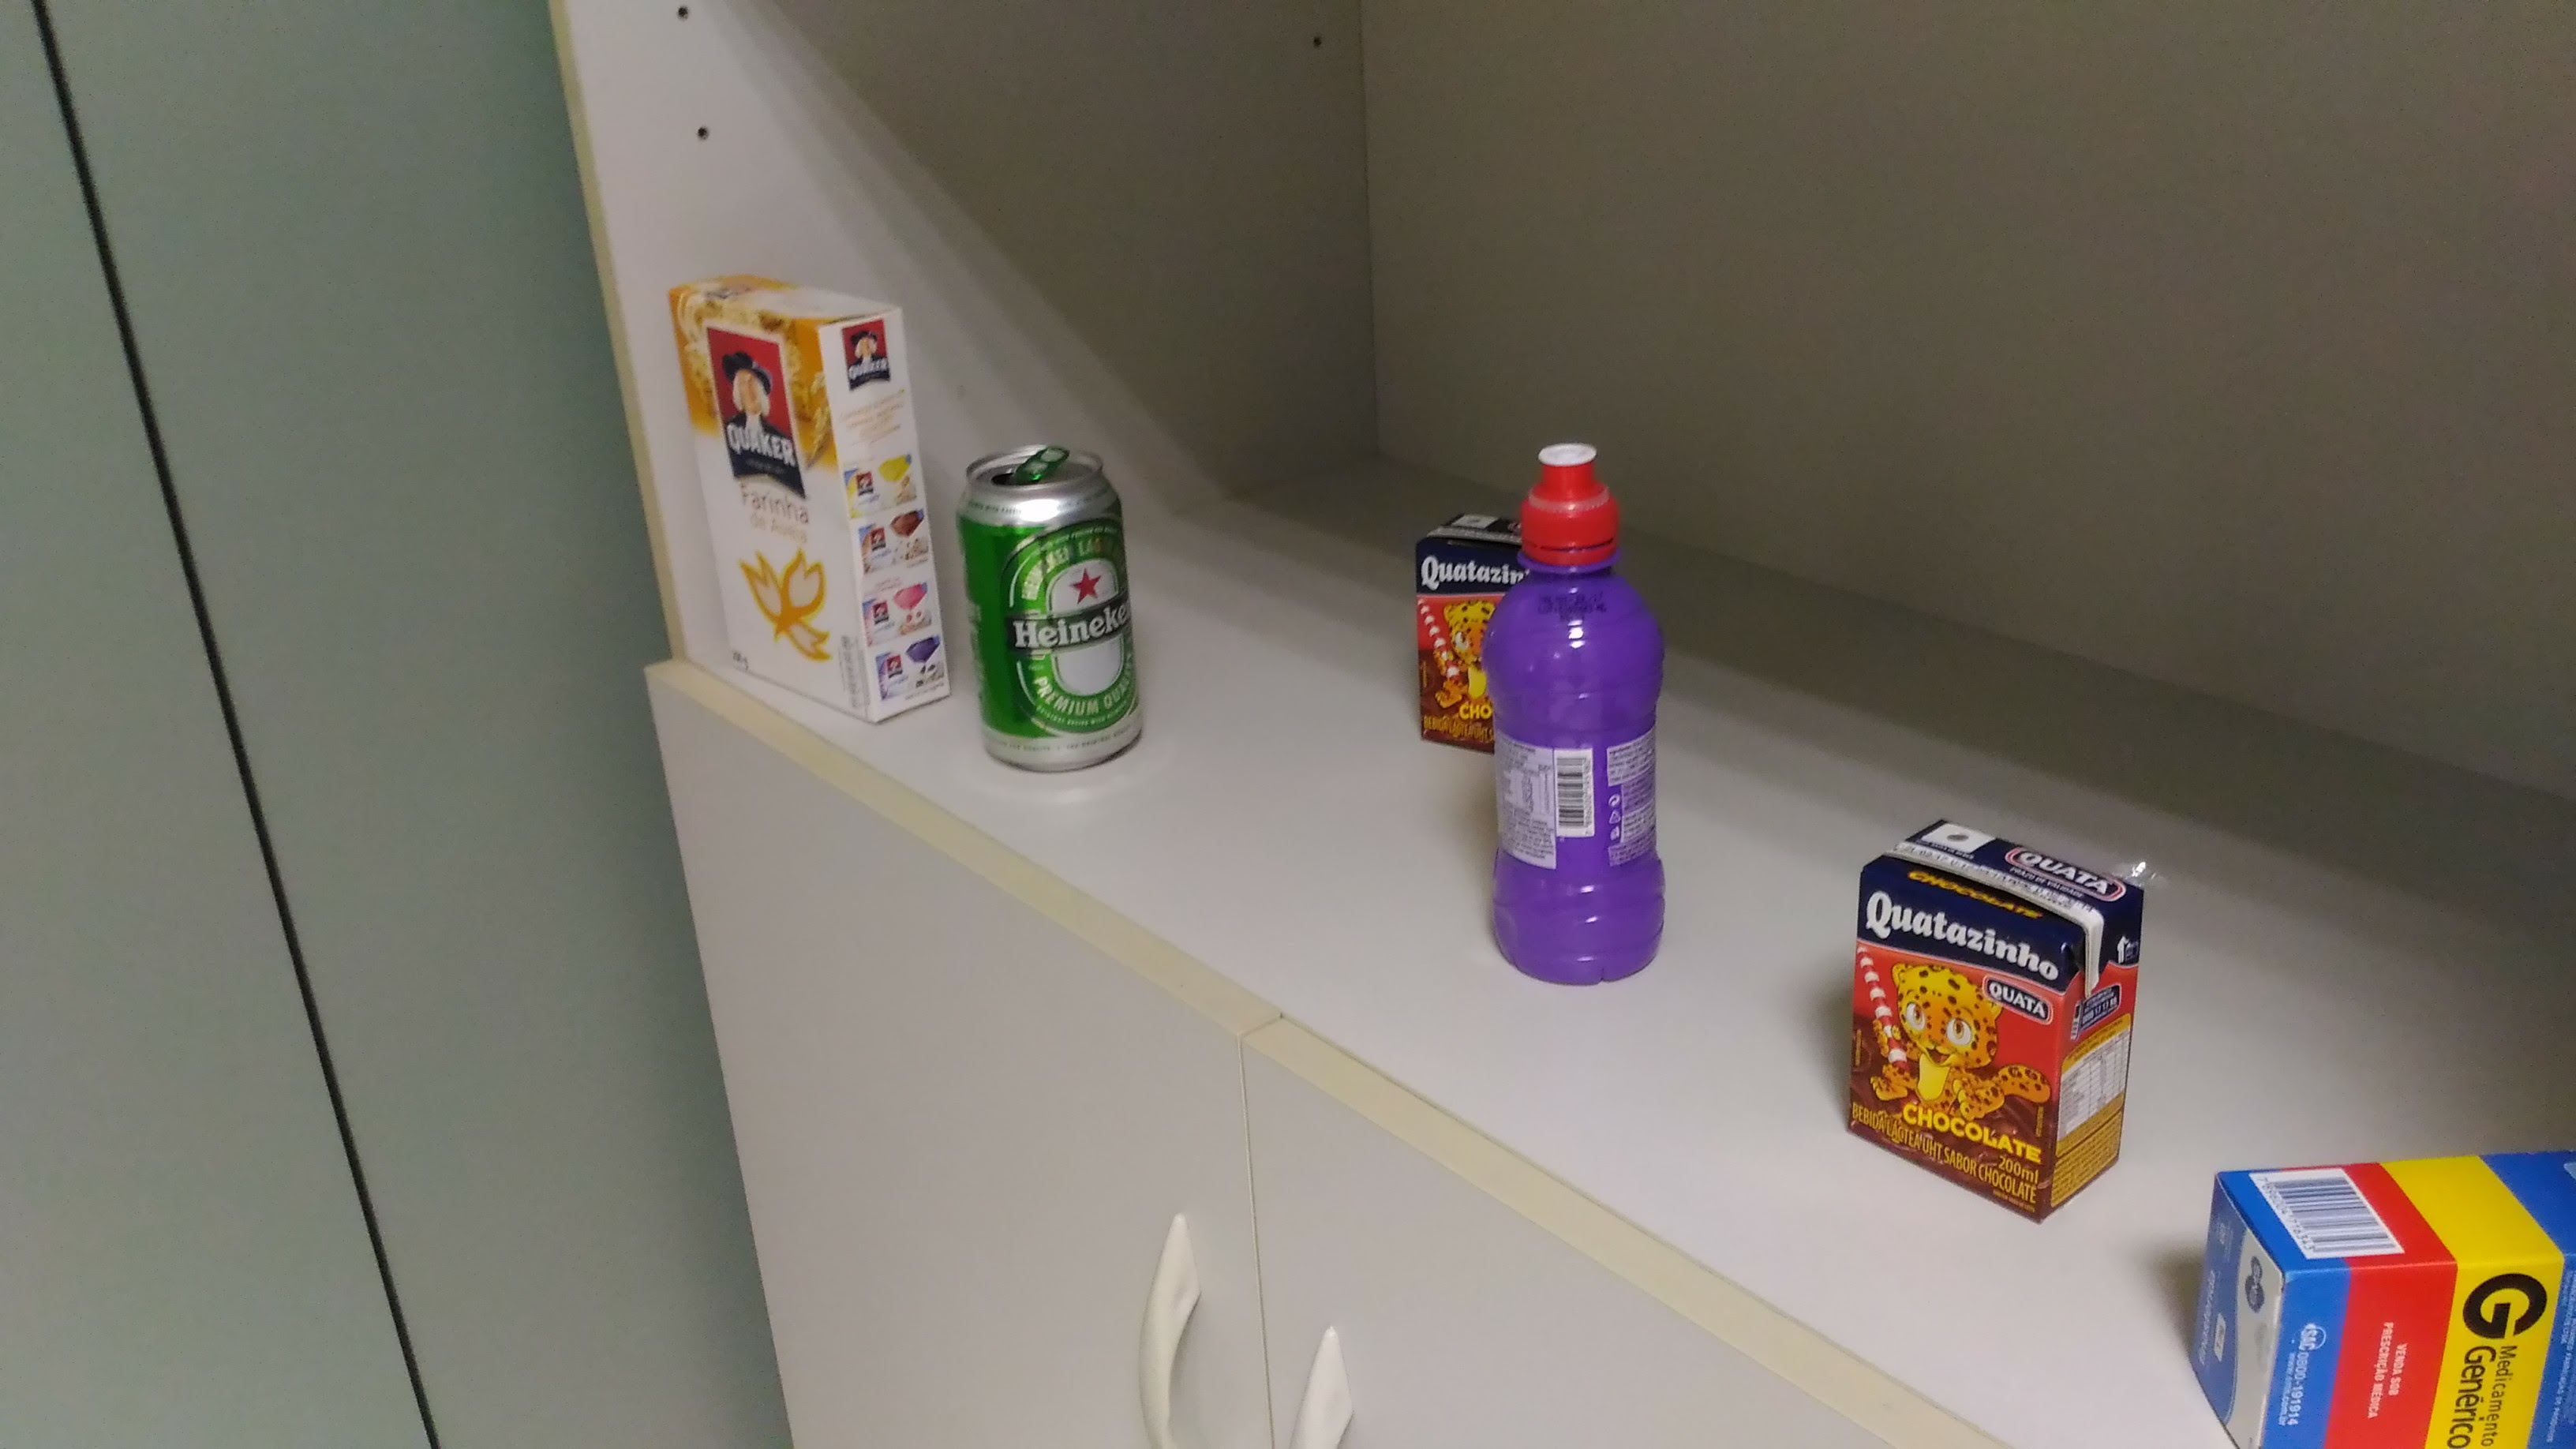cereal: (662, 264, 959, 745)
chocolate_milk: (1835, 787, 2162, 1246)
heineken: (950, 428, 1148, 787)
purple_juice: (1476, 428, 1675, 996)
